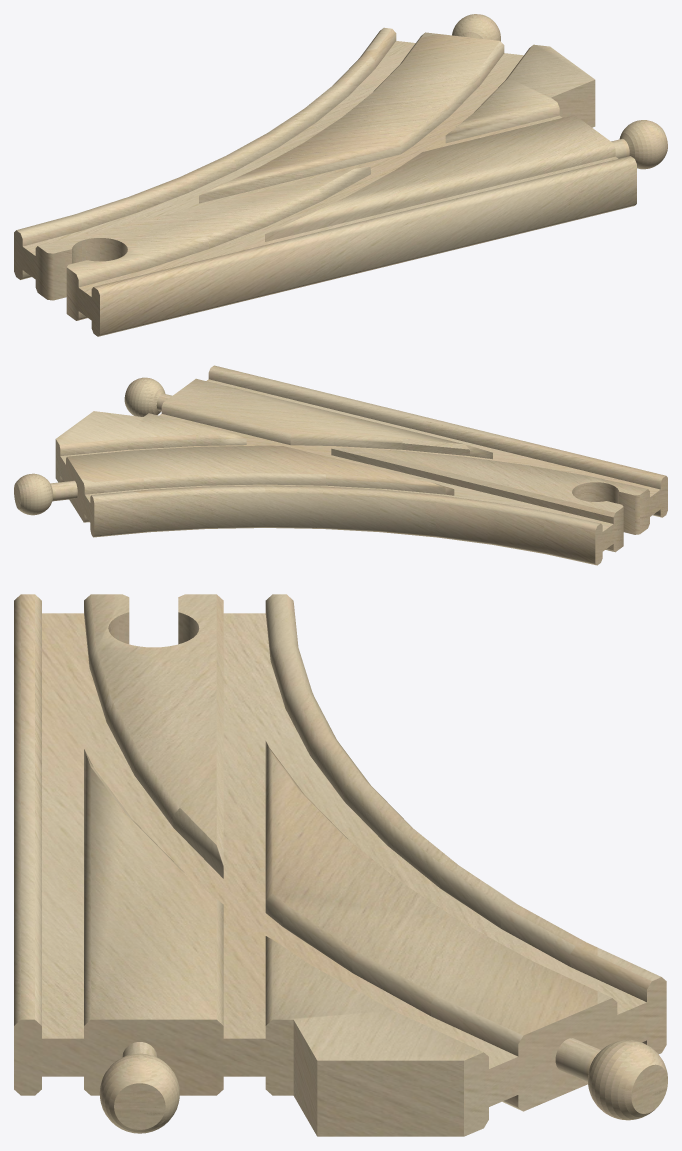
3 renders of one model, top to bottom at view 1: azimuth 30°, elevation 25°; view 2: azimuth 150°, elevation 25°; view 3: azimuth 270°, elevation 25°, orthographic. The views are drawn at different scales.
Parts seen in each view (by area): view 1: SketchUp, _3d_peg (×2); view 2: SketchUp, _3d_peg (×2); view 3: SketchUp, _3d_peg (×2).
Part boxes in pixels (x1,y1,x2,y2): SketchUp: (14, 27, 636, 336); _3d_peg (×2): (452, 14, 667, 169); SketchUp: (55, 365, 667, 565); _3d_peg (×2): (14, 377, 172, 515); SketchUp: (14, 594, 666, 1136); _3d_peg (×2): (99, 1038, 667, 1133).
Size of the model in its own units: 6.32 by 3.68 by 0.4724.
